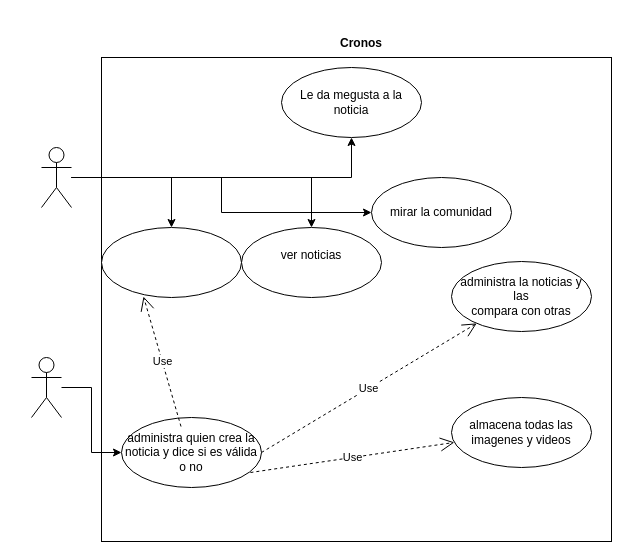
This 629x559 diagram has some shape labels left out. The centre of each missing label's shape, as x and y in pixels:
"crea noticias" goes at point (171, 262).
"moderador" goes at point (46, 387).
"usuario" goes at point (56, 177).
